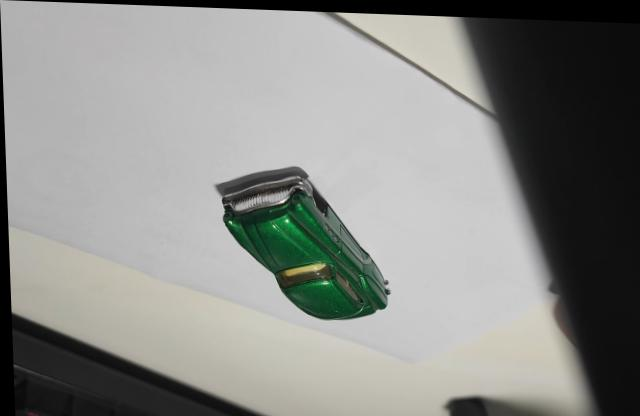06_MASERATI: (214, 165, 388, 318)
